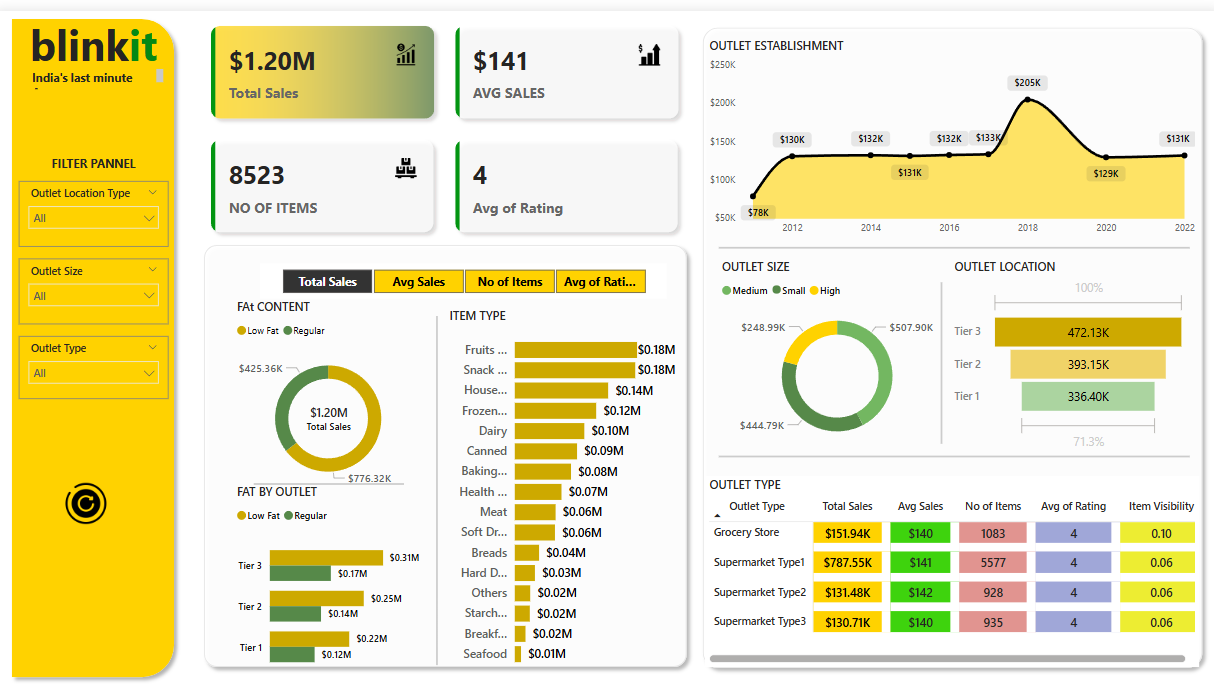

What the dashboard file says about the page in this screenshot:
{"tool":"powerbi","page":{"name":"Page 1","canvas":[1400,800],"ordinal":0},"visuals":[{"type":"shape","box":[10.3,0,203.6,770.2],"z":0},{"type":"textbox","box":[27,0,171.1,78],"z":1000},{"type":"textbox","box":[37.5,61.5,160.6,33],"z":2000},{"type":"cardVisual","fields":{"Data":["BlinkIT Grocery Data.Total Sales","BlinkIT Grocery Data.Avg Sales","BlinkIT Grocery Data.No of Items","BlinkIT Grocery Data.Avg of Rating","BlinkIT Grocery Data.Total Sales"]},"box":[230.2,0,569.6,270],"z":3000},{"type":"shape","box":[230.2,258.2,569.6,500.2],"z":4000},{"type":"donutChart","title":"FAt CONTENT","fields":{"Y":["BlinkIT Grocery Data.Total Sales"],"Category":["BlinkIT Grocery Data.Item Fat Content"]},"box":[271.5,329,219.9,230.2],"z":5000},{"type":"slicer","fields":{"Values":["metrics.metrics"]},"box":[302.5,289.2,464.8,39.8],"z":6000},{"type":"cardVisual","fields":{"Data":["BlinkIT Grocery Data.Total Sales"]},"box":[321.7,432.3,121,62],"z":7000},{"type":"clusteredBarChart","title":"FAT BY OUTLET","fields":{"Y":["BlinkIT Grocery Data.Total Sales"],"Category":["BlinkIT Grocery Data.Outlet Location Type"],"Series":["BlinkIT Grocery Data.Item Fat Content"]},"box":[271.5,540.1,219.9,230.2],"z":8000},{"type":"shape","box":[295.1,517.9,172.6,44.3],"z":9000},{"type":"shape","box":[473.7,348.2,62,401.4],"z":10000},{"type":"barChart","title":"ITEM TYPE","fields":{"Y":["BlinkIT Grocery Data.Total Sales"],"Category":["BlinkIT Grocery Data.Item Type"]},"box":[515,337.9,268.6,420.5],"z":11000},{"type":"shape","box":[799.7,10.3,588.7,749.6],"z":12000},{"type":"lineChart","title":"OUTLET ESTABLISHMENT","fields":{"Y":["BlinkIT Grocery Data.Total Sales"],"Category":["BlinkIT Grocery Data.Outlet Establishment Year"]},"box":[811.6,29.5,565.1,234.6],"z":13000},{"type":"shape","box":[827.8,247.9,541.5,44.3],"z":14000},{"type":"donutChart","title":"OUTLET SIZE","fields":{"Y":["BlinkIT Grocery Data.Total Sales"],"Category":["BlinkIT Grocery Data.Outlet Size"]},"box":[826,282.7,274.5,224.3],"z":15000},{"type":"shape","box":[985.7,309.9,191.8,184.4],"z":16000},{"type":"funnel","title":"OUTLET LOCATION","fields":{"Y":["Sum(BlinkIT Grocery Data.Sales)"],"Category":["BlinkIT Grocery Data.Outlet Location Type"]},"box":[1091.6,282.7,274.5,224.3],"z":17000},{"type":"shape","box":[827.8,486.9,541.5,44.3],"z":18000},{"type":"pivotTable","title":"OUTLET TYPE","fields":{"Rows":["BlinkIT Grocery Data.Outlet Type"],"Values":["BlinkIT Grocery Data.Total Sales","BlinkIT Grocery Data.Avg Sales","BlinkIT Grocery Data.No of Items","BlinkIT Grocery Data.Avg of Rating","Avg(BlinkIT Grocery Data.Item Visibility)"]},"box":[811.6,531.2,565.1,218.4],"z":19000},{"type":"slicer","fields":{"Values":["BlinkIT Grocery Data.Outlet Location Type"]},"box":[26.6,194.8,171.2,75.3],"z":20000},{"type":"slicer","fields":{"Values":["BlinkIT Grocery Data.Outlet Size"]},"box":[26.6,283.3,171.2,75.3],"z":21000},{"type":"slicer","fields":{"Values":["BlinkIT Grocery Data.Outlet Type"]},"box":[26.6,371.8,171.2,72.3],"z":22000},{"type":"textbox","box":[32.5,159.4,159.4,35.4],"z":23000},{"type":"actionButton","box":[67.4,477.6,100.3,40.1],"z":24000},{"type":"image","box":[67.4,530.5,72.9,65.6],"z":25000}]}

Visuals, with their boxes in screenshot pixels (x1, y1, x2, y2), scaled from the page's 1400x800 canvas onto the 1214x697 screenshot:
shape: box=[9, 0, 185, 671]
textbox: box=[23, 0, 172, 68]
textbox: box=[33, 54, 172, 82]
cardVisual - BlinkIT Grocery Data.Total Sales x BlinkIT Grocery Data.Avg Sales: box=[200, 0, 694, 235]
shape: box=[200, 225, 694, 661]
"FAt CONTENT" donutChart: box=[235, 287, 426, 487]
slicer - metrics.metrics: box=[262, 252, 665, 287]
cardVisual - BlinkIT Grocery Data.Total Sales: box=[279, 377, 384, 431]
"FAT BY OUTLET" clusteredBarChart: box=[235, 471, 426, 671]
shape: box=[256, 451, 406, 490]
shape: box=[411, 303, 465, 653]
"ITEM TYPE" barChart: box=[447, 294, 679, 661]
shape: box=[693, 9, 1204, 662]
"OUTLET ESTABLISHMENT" lineChart: box=[704, 26, 1194, 230]
shape: box=[718, 216, 1187, 255]
"OUTLET SIZE" donutChart: box=[716, 246, 954, 442]
shape: box=[855, 270, 1021, 431]
"OUTLET LOCATION" funnel: box=[947, 246, 1185, 442]
shape: box=[718, 424, 1187, 463]
"OUTLET TYPE" pivotTable: box=[704, 463, 1194, 653]
slicer - BlinkIT Grocery Data.Outlet Location Type: box=[23, 170, 172, 235]
slicer - BlinkIT Grocery Data.Outlet Size: box=[23, 247, 172, 312]
slicer - BlinkIT Grocery Data.Outlet Type: box=[23, 324, 172, 387]
textbox: box=[28, 139, 166, 170]
actionButton: box=[58, 416, 145, 451]
image: box=[58, 462, 122, 519]
